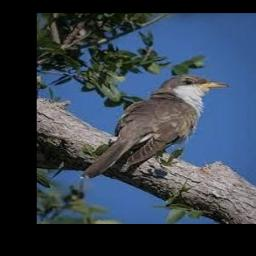Cuckoo: (79, 75, 228, 179)
